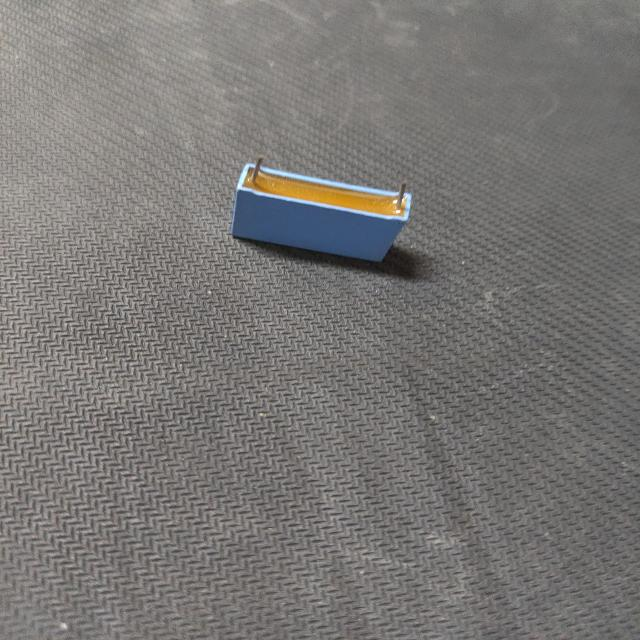capacitor: (232, 157, 411, 262)
